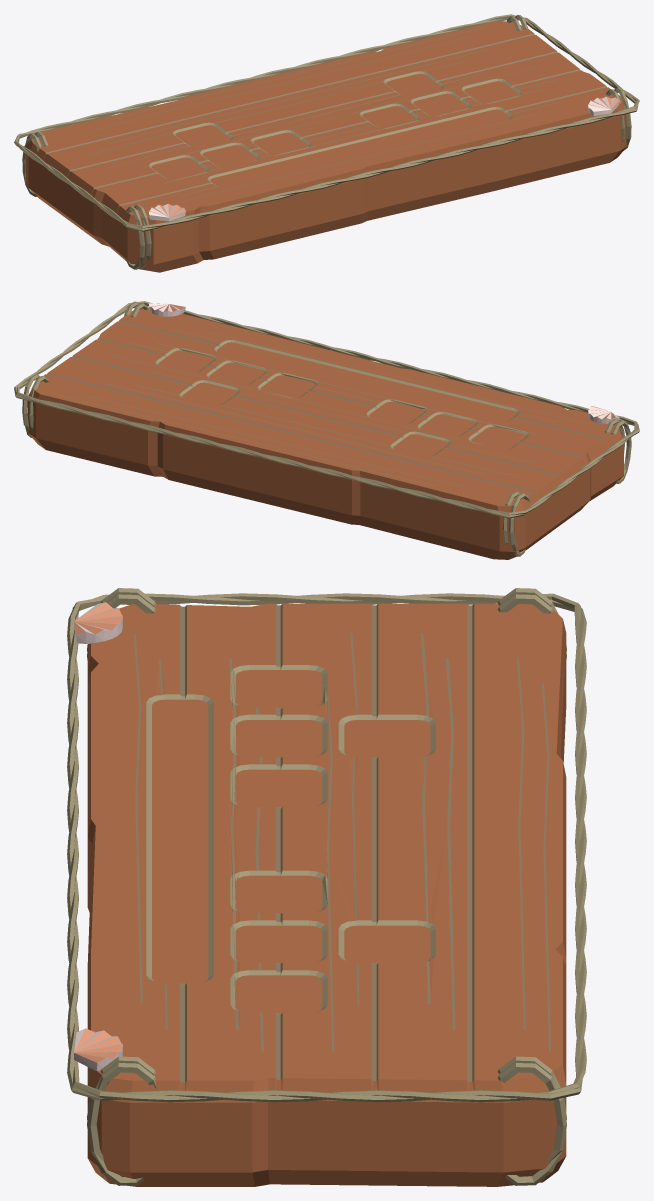
The model's file is driftKeyboard.glb.
3 renders of one model, top to bottom at view 1: azimuth 30°, elevation 25°; view 2: azimuth 150°, elevation 25°; view 3: azimuth 270°, elevation 25°, orthographic. The views are drawn at different scales.
Parts seen in each view (by area): view 1: driftKeyboard; view 2: driftKeyboard; view 3: driftKeyboard.
Part boxes in pixels (bbox=[...]): driftKeyboard: bbox=[14, 14, 639, 272]; driftKeyboard: bbox=[14, 301, 639, 559]; driftKeyboard: bbox=[67, 588, 586, 1186].
Bounding box in the file's own units: 7.56 × 0.8897 × 3.31.
Materials: 1 (1 with a texture image).
